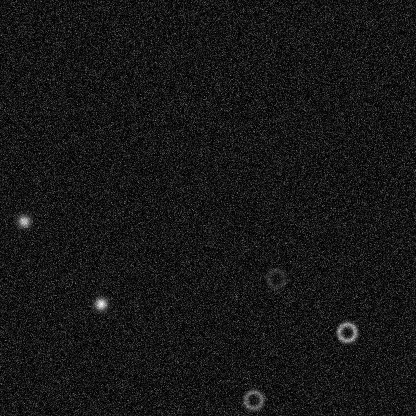Ring: (263, 266, 287, 290), (241, 387, 265, 411), (334, 320, 358, 344)
Spot: (15, 213, 31, 229), (92, 295, 108, 311)
